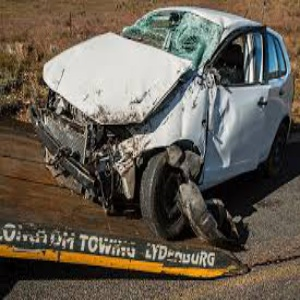bonnet: (44, 38, 177, 125)
bumper: (34, 126, 136, 214)
front_windshield_glass: (134, 11, 215, 59)
